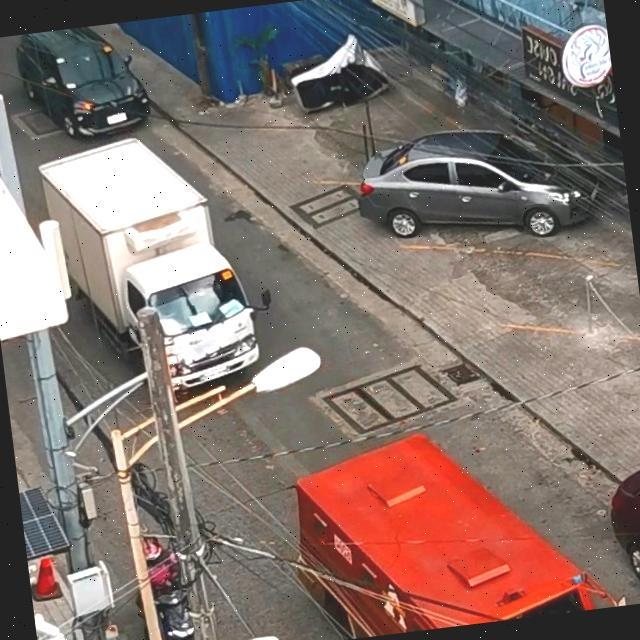Truck: (294, 410, 623, 640), (35, 126, 236, 379)
